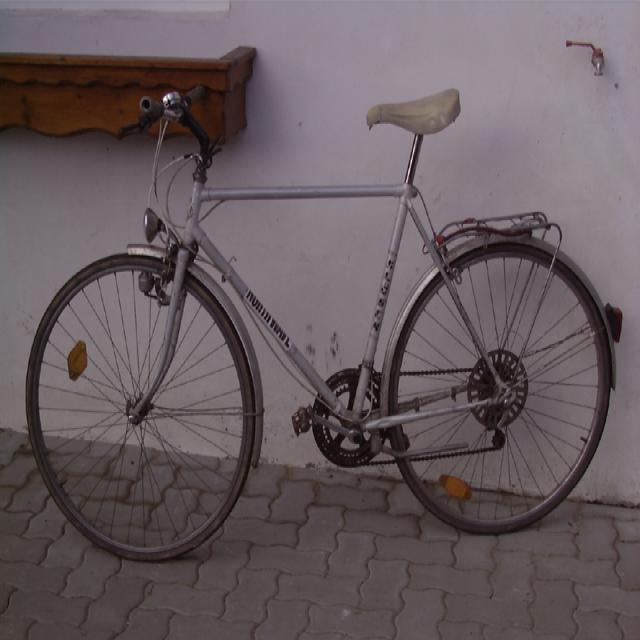bicycle: (24, 81, 622, 562)
